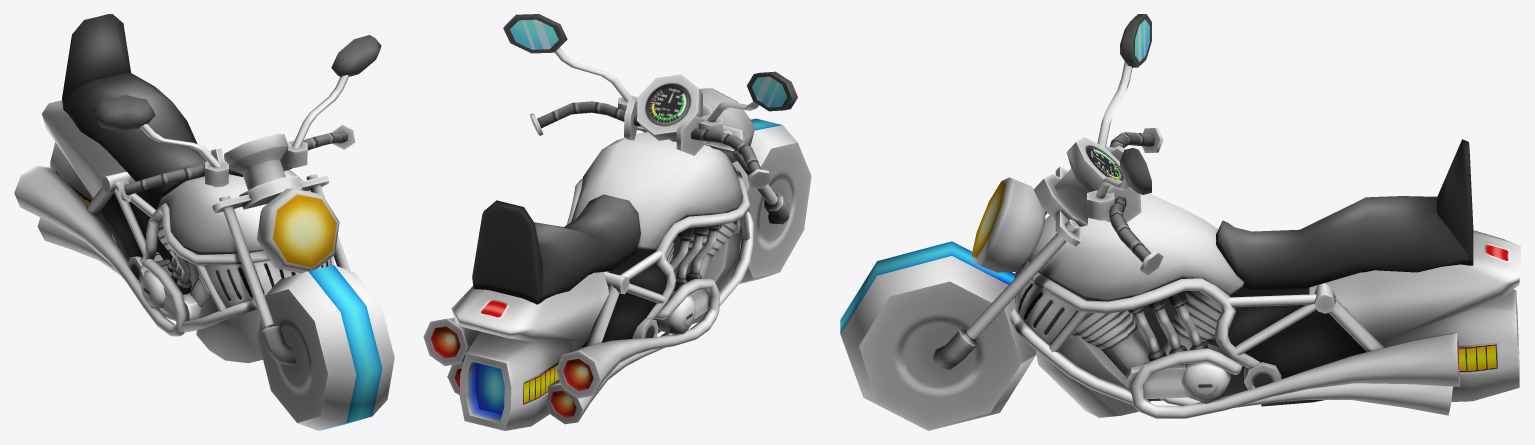
Rendered from Hoverbike_Harley.fbx.
3 renders of one model, left to right at view 1: azimuth 30°, elevation 25°; view 2: azimuth 150°, elevation 25°; view 3: azimuth 270°, elevation 25°, orthographic. The views are drawn at different scales.
Visible parts, largest first — view 1: Hoverbike_Harley; view 2: Hoverbike_Harley; view 3: Hoverbike_Harley.
Part boxes in pixels (box(x1,y1,x2,y2)): Hoverbike_Harley: box(14, 14, 394, 430); Hoverbike_Harley: box(423, 14, 811, 430); Hoverbike_Harley: box(840, 14, 1520, 430).
Bounding box in the file's own units: 14.68 × 14.34 × 26.15.
